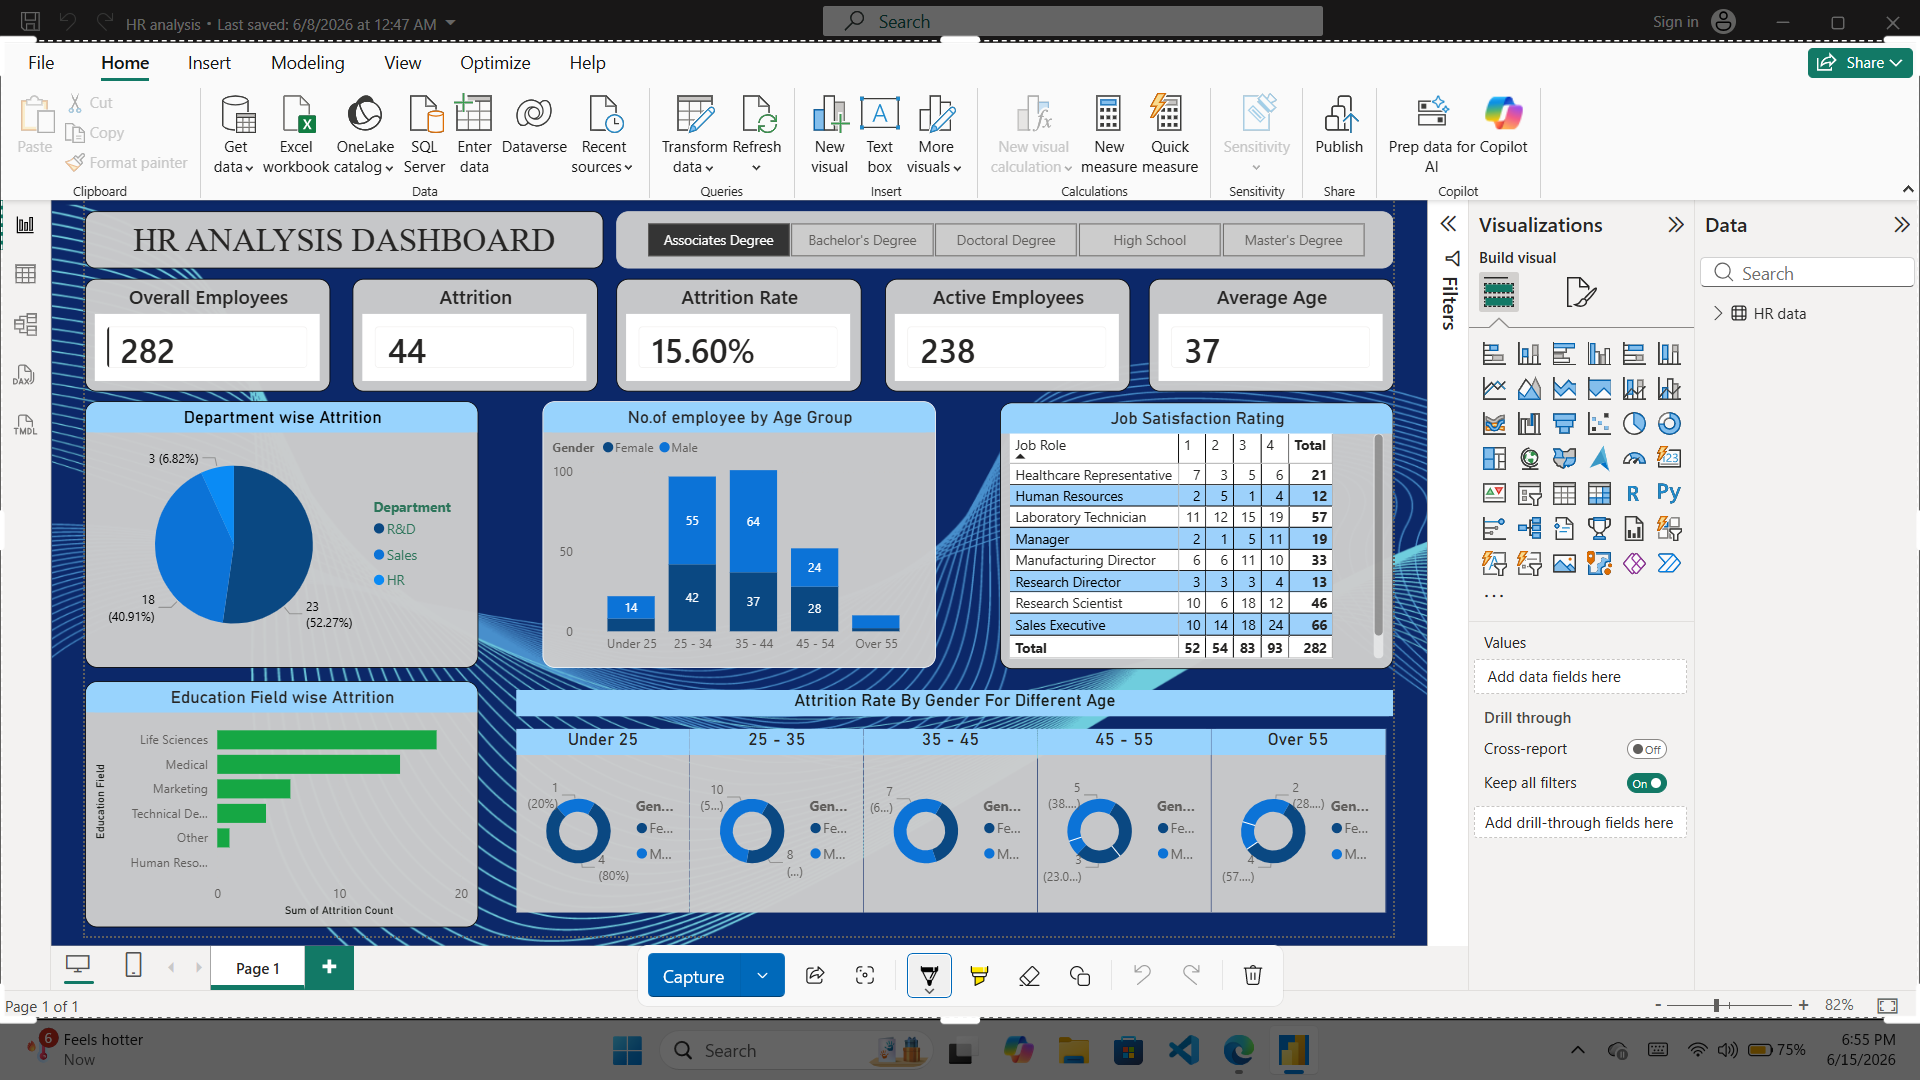

The page's visual inventory and layout, read from the dashboard file:
{"tool":"powerbi","page":{"name":"Page 1","canvas":[1280,720],"ordinal":0},"visuals":[{"type":"cardVisual","title":"Overall Employees","fields":{"Data":["Sum(HR data.Employee Count)"]},"box":[0,77,240,110],"z":0},{"type":"cardVisual","title":"Attrition","fields":{"Data":["Sum(HR data.Attrition Count)"]},"box":[261.7,77,239.7,110.1],"z":1000},{"type":"cardVisual","title":"Attrition Rate","fields":{"Data":["HR data.Attrition Rate"]},"box":[519.7,77,239.7,110.1],"z":2000},{"type":"cardVisual","title":"Active Employees","fields":{"Data":["HR data.Active Employees"]},"box":[782.6,77,239.7,110.1],"z":3000},{"type":"cardVisual","title":"Average Age","fields":{"Data":["Avg(HR data.Age)"]},"box":[1040.6,77,239.7,110.1],"z":4000},{"type":"pieChart","title":"Department wise Attrition","fields":{"Category":["HR data.Department"],"Y":["Sum(HR data.Attrition Count)"]},"box":[0,196.9,385.2,260.5],"z":5000},{"type":"columnChart","title":"No.of employee by Age Group","fields":{"Category":["HR data.CF_age band"],"Y":["Sum(HR data.Employee Count)"],"Series":["HR data.Gender"]},"box":[447.6,196.9,385.2,260.5],"z":6000},{"type":"pivotTable","title":"Job Satisfaction Rating","fields":{"Rows":["HR data.Job Role"],"Columns":["HR data.Job Satisfaction"],"Values":["Sum(HR data.Employee Count)"]},"box":[895.1,198.1,385.2,260.5],"z":7000},{"type":"barChart","title":"Education Field wise Attrition","fields":{"Category":["HR data.Education Field"],"Y":["Sum(HR data.Attrition Count)"]},"box":[0,470.8,385.2,240.9],"z":8000},{"type":"donutChart","title":"Under 25","fields":{"Category":["HR data.Gender"],"Y":["Sum(HR data.Attrition Count)"],"Series":["HR data.CF_age band"]},"box":[421.9,517.3,170,179.8],"z":9000},{"type":"textbox","title":"Attrition Rate By Gender For Different Age","box":[421.9,479.4,858.4,25.7],"z":9001},{"type":"donutChart","title":"25 - 35","fields":{"Category":["HR data.Gender"],"Y":["Sum(HR data.Attrition Count)"],"Series":["HR data.CF_age band"]},"box":[591.9,517.3,170,179.8],"z":9002},{"type":"donutChart","title":"35 - 45","fields":{"Category":["HR data.Gender"],"Y":["Sum(HR data.Attrition Count)"],"Series":["HR data.CF_age band"]},"box":[761.8,517.3,170,179.8],"z":9003},{"type":"donutChart","title":"45 - 55","fields":{"Category":["HR data.Gender"],"Y":["Sum(HR data.Attrition Count)"],"Series":["HR data.CF_age band"]},"box":[931.8,517.3,170,179.8],"z":9004},{"type":"donutChart","title":"Over 55","fields":{"Category":["HR data.Gender"],"Y":["Sum(HR data.Attrition Count)"],"Series":["HR data.CF_age band"]},"box":[1101.8,517.3,170,180],"z":9005},{"type":"textbox","box":[0,11,507.5,56.3],"z":9006},{"type":"slicer","fields":{"Values":["HR data.Education"]},"box":[519.7,11,760.6,56.3],"z":9007}]}

Visuals, with their boxes on the page's 1280x720 design canvas (x1, y1, x2, y2). These are canvas units, not pixel positions in the 1920x1080 screenshot, which may show the page scaled, cropped or inside an application window:
"Overall Employees" cardVisual: BBox(0, 77, 240, 187)
"Attrition" cardVisual: BBox(262, 77, 501, 187)
"Attrition Rate" cardVisual: BBox(520, 77, 759, 187)
"Active Employees" cardVisual: BBox(783, 77, 1022, 187)
"Average Age" cardVisual: BBox(1041, 77, 1280, 187)
"Department wise Attrition" pieChart: BBox(0, 197, 385, 457)
"No.of employee by Age Group" columnChart: BBox(448, 197, 833, 457)
"Job Satisfaction Rating" pivotTable: BBox(895, 198, 1280, 459)
"Education Field wise Attrition" barChart: BBox(0, 471, 385, 712)
"Under 25" donutChart: BBox(422, 517, 592, 697)
"Attrition Rate By Gender For Different Age" textbox: BBox(422, 479, 1280, 505)
"25 - 35" donutChart: BBox(592, 517, 762, 697)
"35 - 45" donutChart: BBox(762, 517, 932, 697)
"45 - 55" donutChart: BBox(932, 517, 1102, 697)
"Over 55" donutChart: BBox(1102, 517, 1272, 697)
textbox: BBox(0, 11, 508, 67)
slicer - HR data.Education: BBox(520, 11, 1280, 67)
